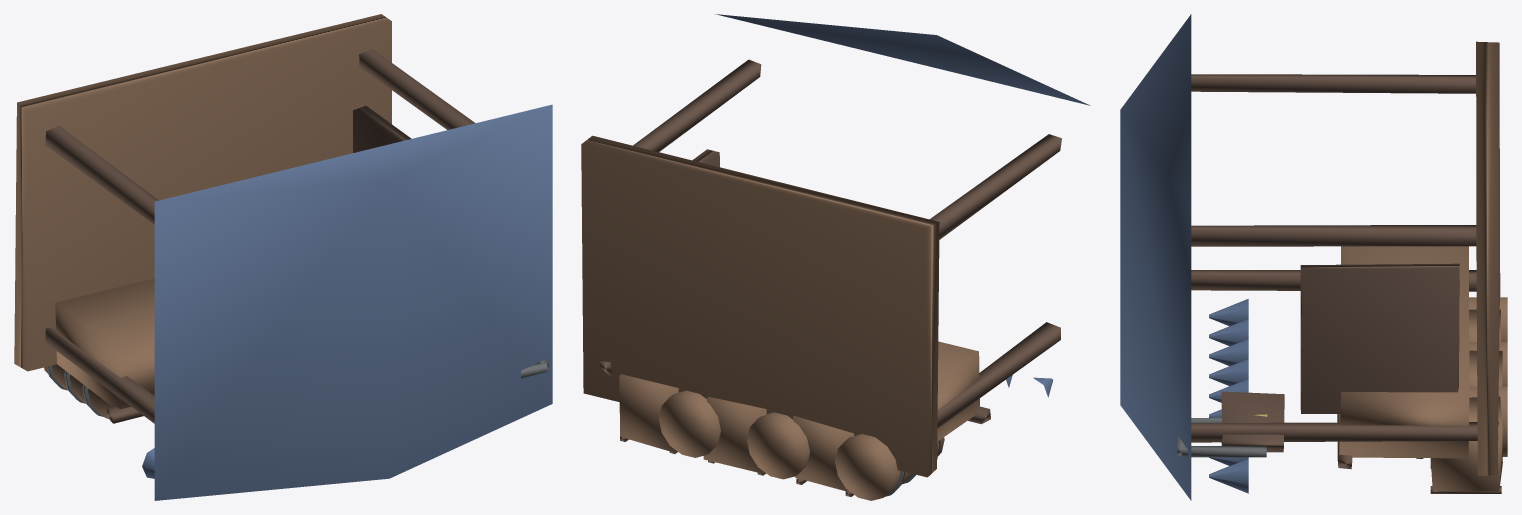
File: merchant_stall_hd.glb
3 views of the same model, side by side, from view 1: azimuth 30°, elevation 25°; view 2: azimuth 150°, elevation 25°; view 3: azimuth 270°, elevation 25° (orthographic). The views are drawn at different scales.
Size of the model in its own units: 4.8 by 3.7 by 4.1.
